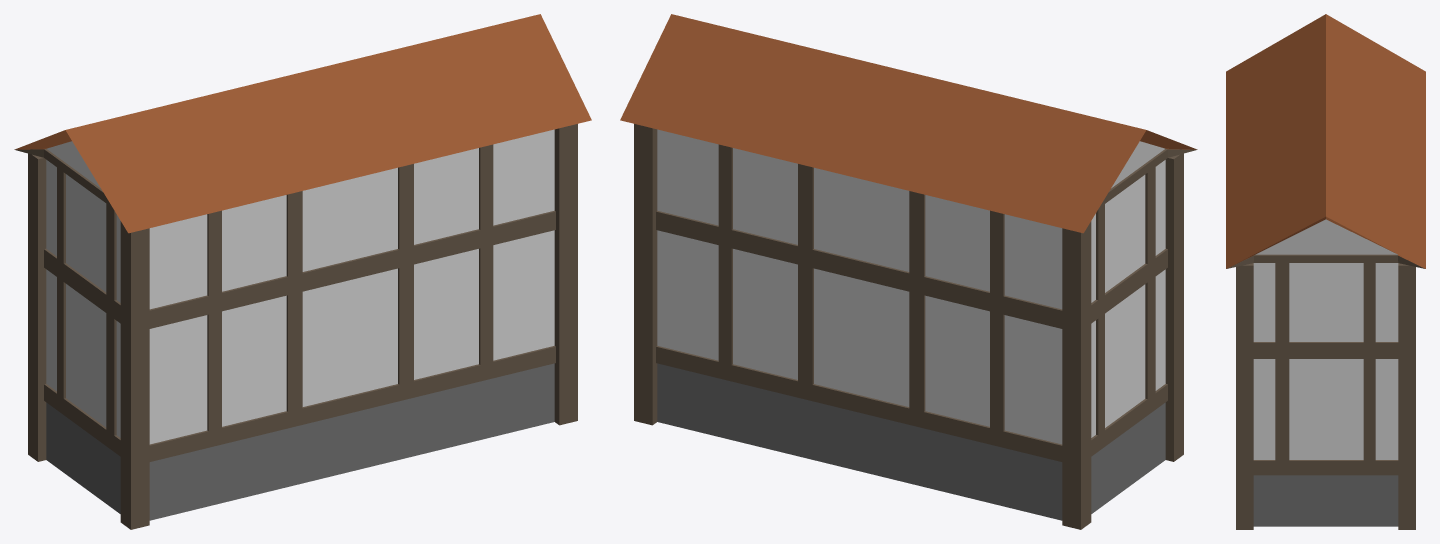
Rendered from Building base4.fbx.
3 views of the same model, side by side, from view 1: azimuth 30°, elevation 25°; view 2: azimuth 150°, elevation 25°; view 3: azimuth 270°, elevation 25° (orthographic). The views are drawn at different scales.
Visible parts, largest first — view 1: Cube; view 2: Cube; view 3: Cube.
Part boxes in pixels (left/top/right/bottom): Cube: left=14, top=14, right=591, bottom=529; Cube: left=620, top=14, right=1197, bottom=529; Cube: left=1226, top=14, right=1425, bottom=529.
Bounding box in the file's own units: 639 × 470 × 266.
